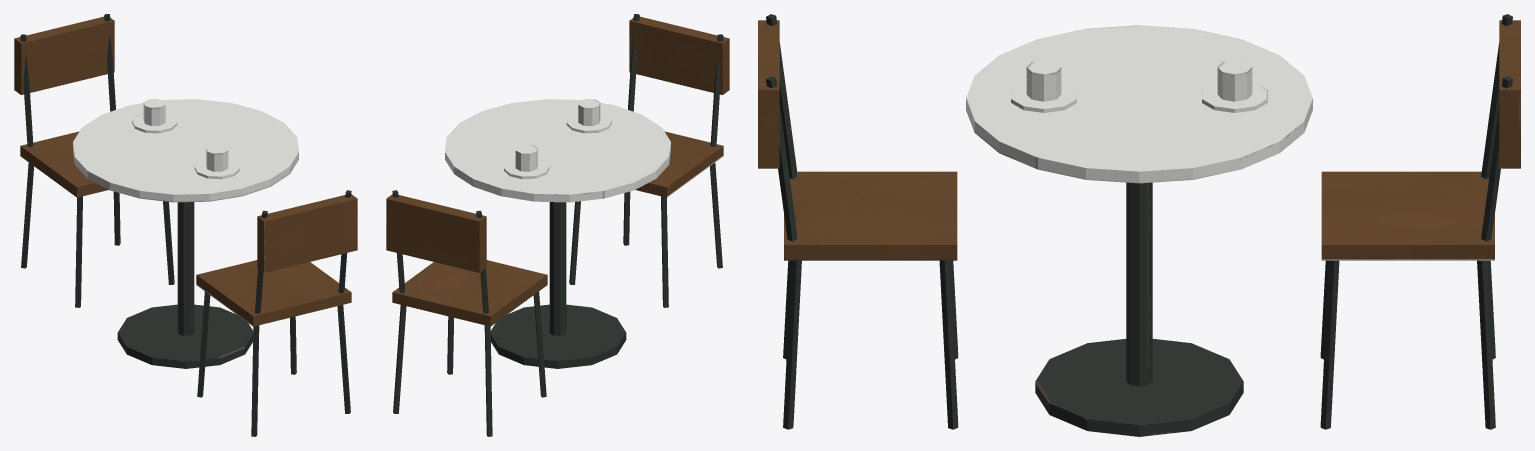
The model's file is stolek_kavarna_398776c2.glb.
3 renders of one model, left to right at view 1: azimuth 30°, elevation 25°; view 2: azimuth 150°, elevation 25°; view 3: azimuth 270°, elevation 25°, orthographic. The views are drawn at different scales.
Parts seen in each view (by area): view 1: dum; view 2: dum; view 3: dum.
Boxes of the visible parts, x1,y1,x2,y2 form: dum: (14,14,357,436); dum: (386,14,729,436); dum: (758,14,1520,436).
Bounding box in the file's own units: 0.798 × 0.8797 × 1.76.
Materials: 1 (1 with a texture image).
